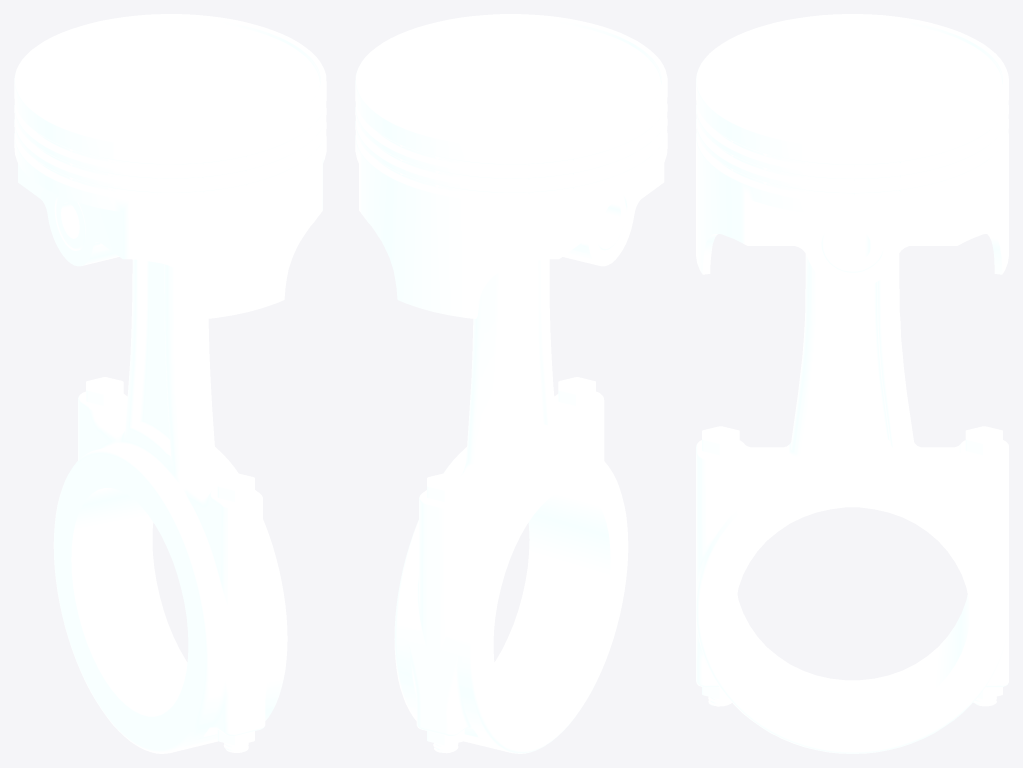
File: piston.glb
3 renders of one model, left to right at view 1: azimuth 30°, elevation 25°; view 2: azimuth 150°, elevation 25°; view 3: azimuth 270°, elevation 25°, orthographic.
Parts seen in each view (by area): view 1: Object_2; view 2: Object_2; view 3: Object_2.
Part boxes in pixels (box(x1,y1,x2,y2)): Object_2: box(14, 14, 326, 753); Object_2: box(355, 14, 667, 753); Object_2: box(696, 14, 1008, 753).
Bounding box in the file's own units: 1.58 × 3.67 × 1.58.
